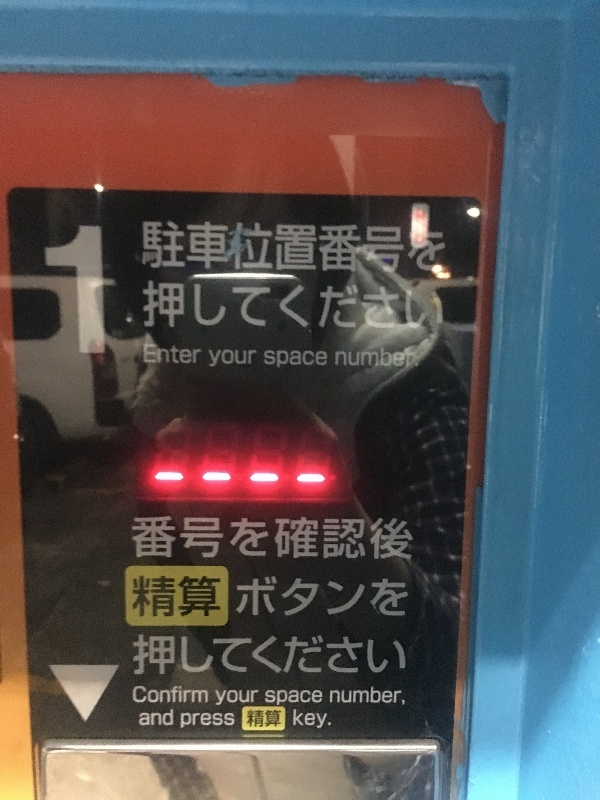text: (49, 225, 64, 355), (65, 225, 80, 355), (81, 225, 96, 355), (97, 225, 106, 355), (145, 280, 160, 333), (161, 280, 176, 333), (177, 280, 192, 333), (193, 280, 208, 333), (209, 280, 224, 333), (225, 280, 240, 333), (241, 280, 256, 333), (257, 280, 272, 333), (273, 280, 288, 333), (289, 280, 304, 333), (305, 280, 320, 333), (321, 280, 336, 333), (337, 280, 352, 333), (353, 280, 368, 333), (369, 280, 384, 333), (385, 280, 400, 333), (401, 280, 416, 333), (417, 280, 432, 333), (145, 222, 160, 274), (161, 222, 176, 274), (177, 222, 192, 274), (193, 222, 208, 274), (209, 222, 224, 274), (225, 222, 240, 274), (241, 222, 256, 274), (257, 222, 272, 274), (273, 222, 288, 274), (289, 222, 304, 274), (305, 222, 320, 274), (321, 222, 336, 274), (337, 222, 352, 274), (353, 222, 368, 274), (369, 222, 384, 274), (385, 222, 400, 274), (401, 222, 416, 274), (417, 222, 432, 274), (145, 517, 160, 563), (161, 517, 176, 563), (177, 517, 192, 563), (193, 517, 208, 563), (209, 517, 224, 563), (225, 517, 240, 563), (241, 517, 256, 563), (257, 517, 272, 563), (273, 517, 288, 563), (289, 517, 304, 563), (305, 517, 320, 563), (321, 517, 336, 563), (337, 517, 352, 563), (353, 517, 368, 563), (369, 517, 384, 563), (385, 517, 400, 563), (241, 575, 256, 618), (257, 575, 272, 618), (273, 575, 288, 618), (289, 575, 304, 618), (305, 575, 320, 618), (321, 575, 336, 618), (337, 575, 352, 618), (353, 575, 368, 618), (369, 575, 384, 618), (385, 575, 400, 618), (145, 634, 160, 677), (161, 634, 176, 677), (177, 634, 192, 677), (193, 634, 208, 677), (209, 634, 224, 677), (225, 634, 240, 677), (241, 634, 256, 677), (257, 634, 272, 677), (273, 634, 288, 677), (289, 634, 304, 677), (305, 634, 320, 677), (321, 634, 336, 677), (337, 634, 352, 677), (353, 634, 368, 677), (369, 634, 384, 677), (385, 634, 400, 677), (433, 280, 445, 333), (433, 222, 445, 274), (145, 577, 160, 618), (161, 577, 176, 618), (177, 577, 192, 618), (193, 577, 208, 618), (131, 517, 144, 563), (401, 517, 414, 563), (44, 225, 48, 355), (209, 577, 221, 618), (133, 634, 144, 677), (134, 577, 144, 618), (401, 575, 410, 618), (273, 350, 288, 372), (289, 350, 304, 372), (305, 350, 320, 372), (193, 686, 209, 706), (145, 344, 160, 365), (161, 344, 176, 365), (177, 344, 192, 365), (337, 348, 352, 369), (353, 348, 368, 369), (369, 348, 384, 369), (385, 348, 400, 369), (401, 348, 416, 369), (241, 348, 257, 367), (145, 686, 160, 706), (161, 686, 176, 706), (177, 686, 192, 706), (257, 710, 272, 730), (305, 711, 320, 731), (209, 348, 224, 367), (225, 348, 240, 367), (401, 634, 407, 677), (225, 690, 240, 707), (241, 690, 256, 707), (273, 690, 288, 707), (289, 690, 304, 707), (305, 690, 320, 707), (337, 689, 352, 706), (353, 689, 368, 706), (369, 689, 384, 706), (385, 689, 400, 706), (145, 710, 160, 727), (193, 713, 208, 729), (209, 713, 224, 729), (161, 710, 174, 727), (133, 686, 144, 706), (321, 711, 332, 731), (193, 344, 203, 365), (294, 711, 304, 731), (273, 710, 282, 730), (264, 350, 272, 372), (321, 350, 329, 372), (181, 713, 192, 729), (225, 713, 235, 729), (248, 710, 256, 730), (216, 690, 224, 707), (417, 348, 422, 369), (142, 222, 144, 274), (266, 690, 272, 707), (330, 689, 336, 706), (238, 575, 240, 618), (401, 689, 406, 706), (140, 710, 144, 727), (143, 280, 144, 333), (257, 690, 259, 707), (321, 690, 323, 707), (143, 344, 144, 365)
